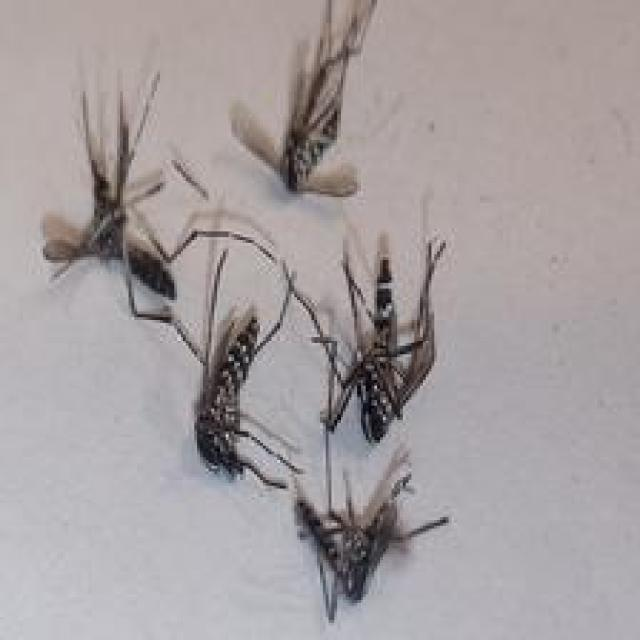Aedes albopictus: (227, 0, 390, 197)
